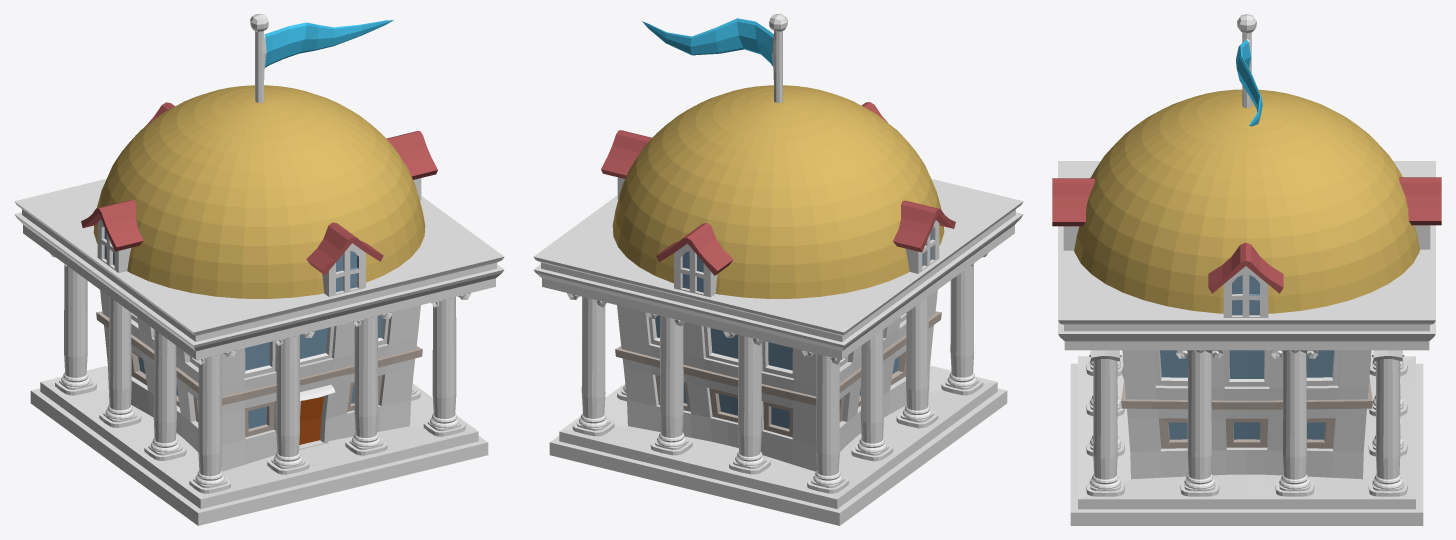
The model's file is 3D_Model_TownHall_LP_v3.fbx.
3 views of the same model, side by side, from view 1: azimuth 30°, elevation 25°; view 2: azimuth 150°, elevation 25°; view 3: azimuth 270°, elevation 25° (orthographic). The views are drawn at different scales.
Visible parts, largest first — view 1: hall; view 2: hall; view 3: hall.
Part boxes in pixels (left/top/right/bottom): hall: left=14, top=14, right=504, bottom=525; hall: left=533, top=14, right=1023, bottom=525; hall: left=1052, top=14, right=1441, bottom=525.
Bounding box in the file's own units: 406 × 502 × 406.
